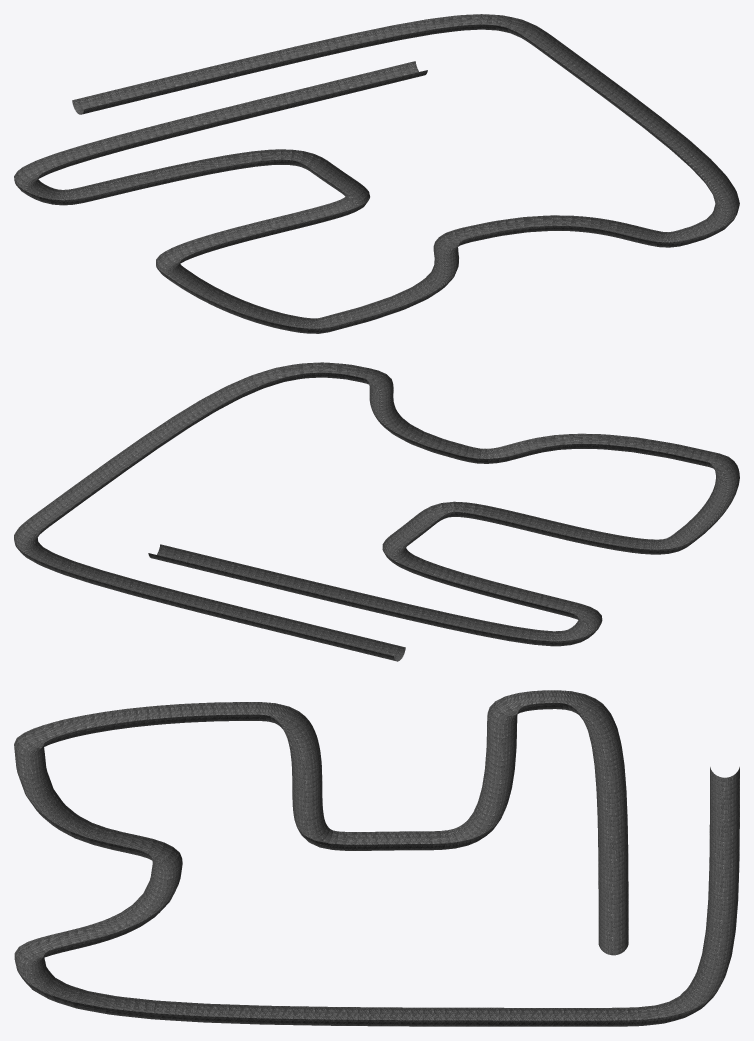
The model's file is track2.obj.
The picture shows the model from 3 angles, top to bottom: view 1: azimuth 30°, elevation 25°; view 2: azimuth 150°, elevation 25°; view 3: azimuth 270°, elevation 25°; orthographic projection. The views are drawn at different scales.
Visible parts, largest first — view 1: Cylinder; view 2: Cylinder; view 3: Cylinder.
Boxes of the visible parts, x1,y1,x2,y2 form: Cylinder: [14, 14, 739, 333]; Cylinder: [14, 362, 739, 661]; Cylinder: [14, 690, 739, 1026].
Size of the model in its own units: 28.08 by 0.4429 by 26.07.
Materials: 1 (1 with a texture image).
